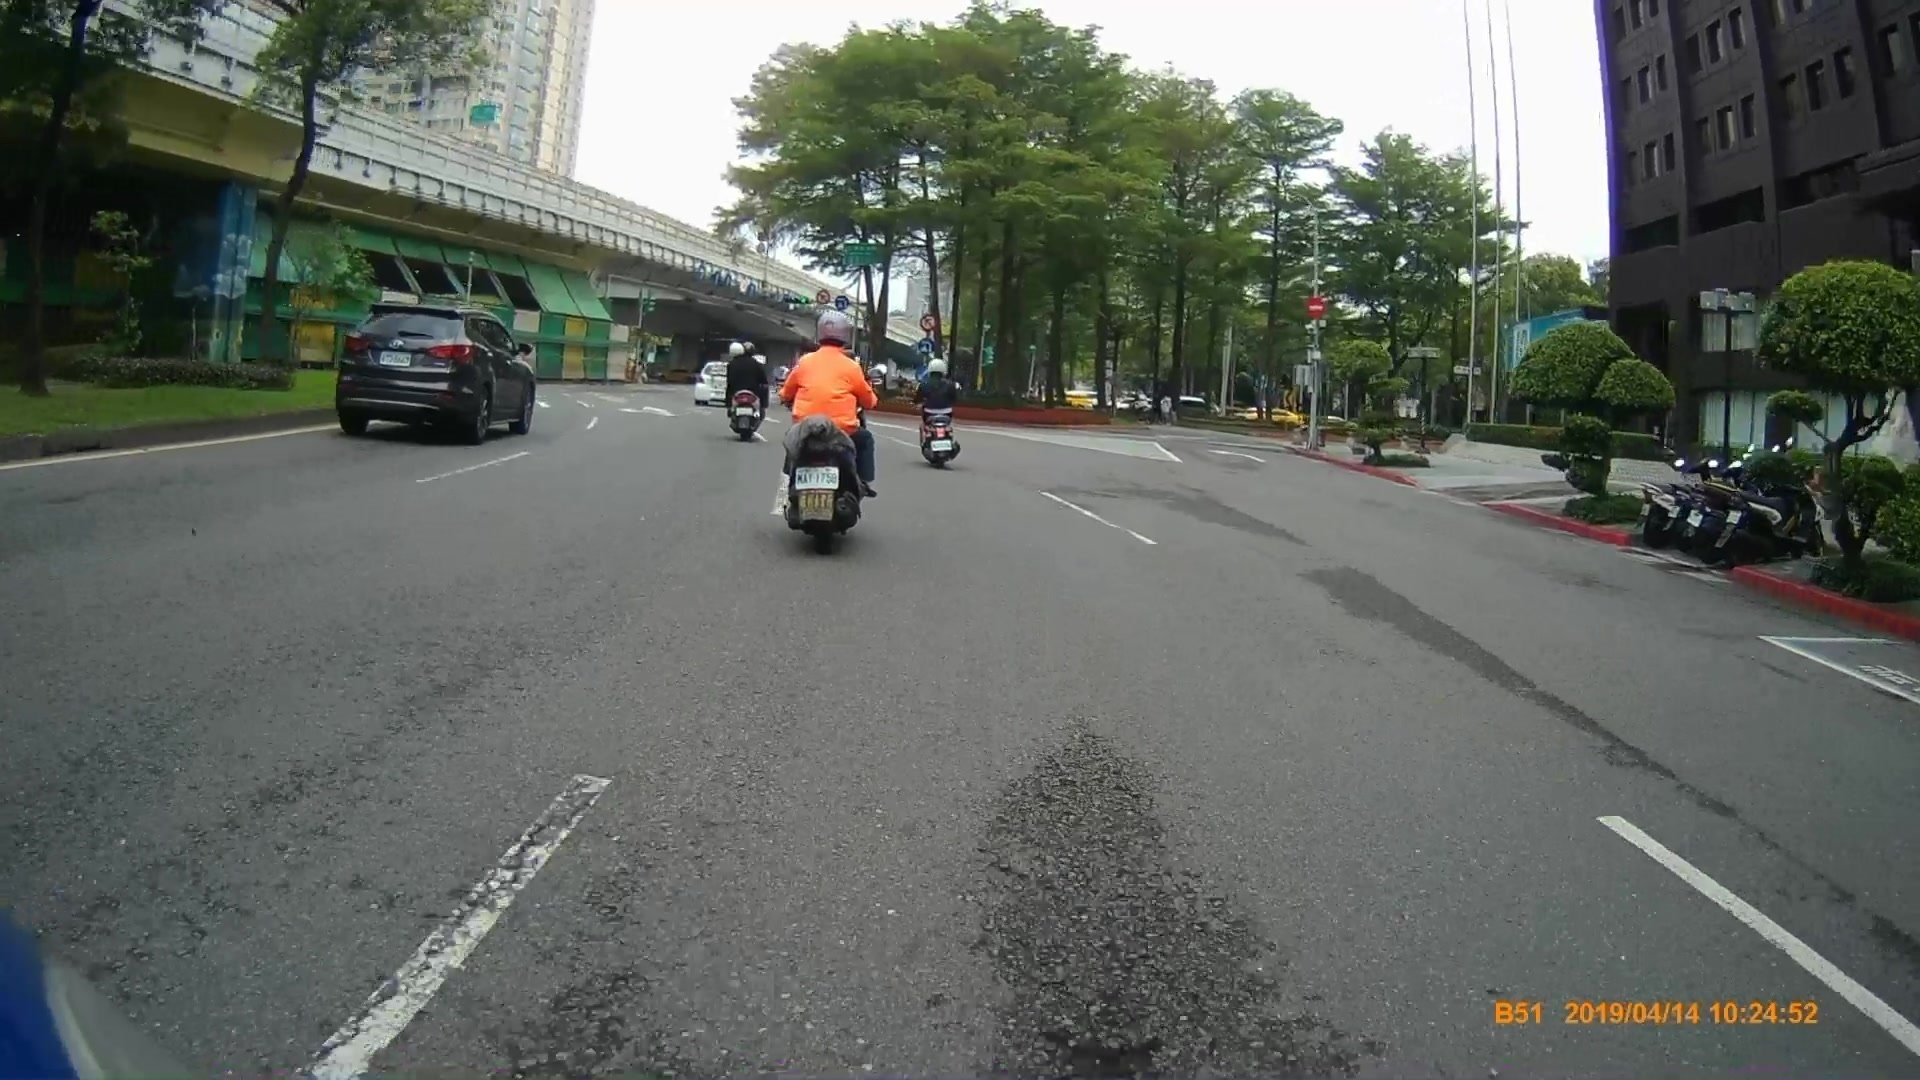License_plate: (790, 466, 842, 489), (377, 346, 415, 375)
